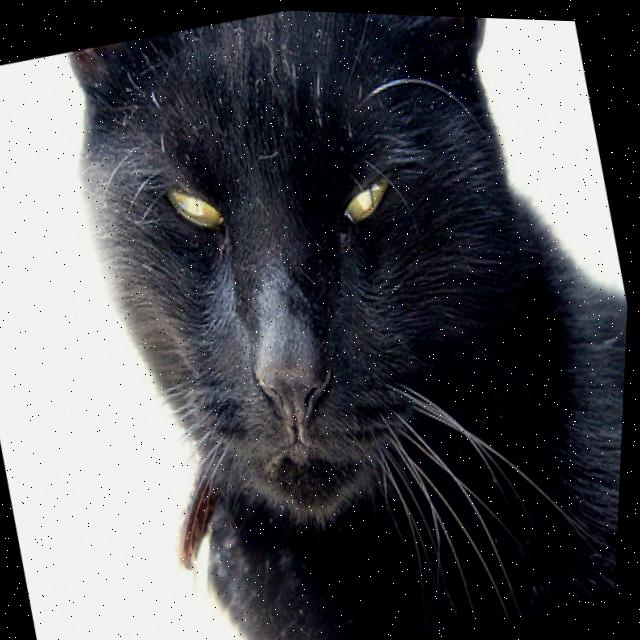Bombay: (32, 2, 640, 640)
